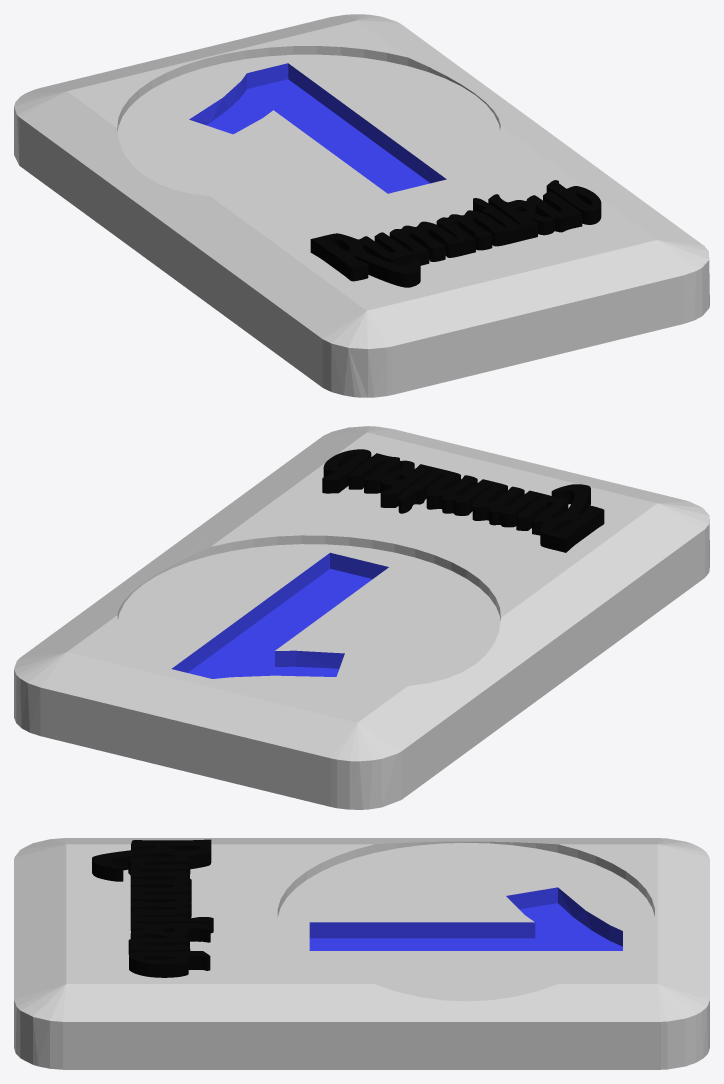
The picture shows the model from 3 angles, top to bottom: view 1: azimuth 30°, elevation 25°; view 2: azimuth 150°, elevation 25°; view 3: azimuth 270°, elevation 25°; orthographic projection.
Parts seen in each view (by area): view 1: Rummikub 1 Fixed; view 2: Rummikub 1 Fixed; view 3: Rummikub 1 Fixed.
Boxes of the visible parts, x1,y1,x2,y2 form: Rummikub 1 Fixed: [14, 14, 709, 397]; Rummikub 1 Fixed: [14, 426, 709, 809]; Rummikub 1 Fixed: [14, 838, 709, 1069].
Size of the model in its own units: 2499 by 489 by 4000.
